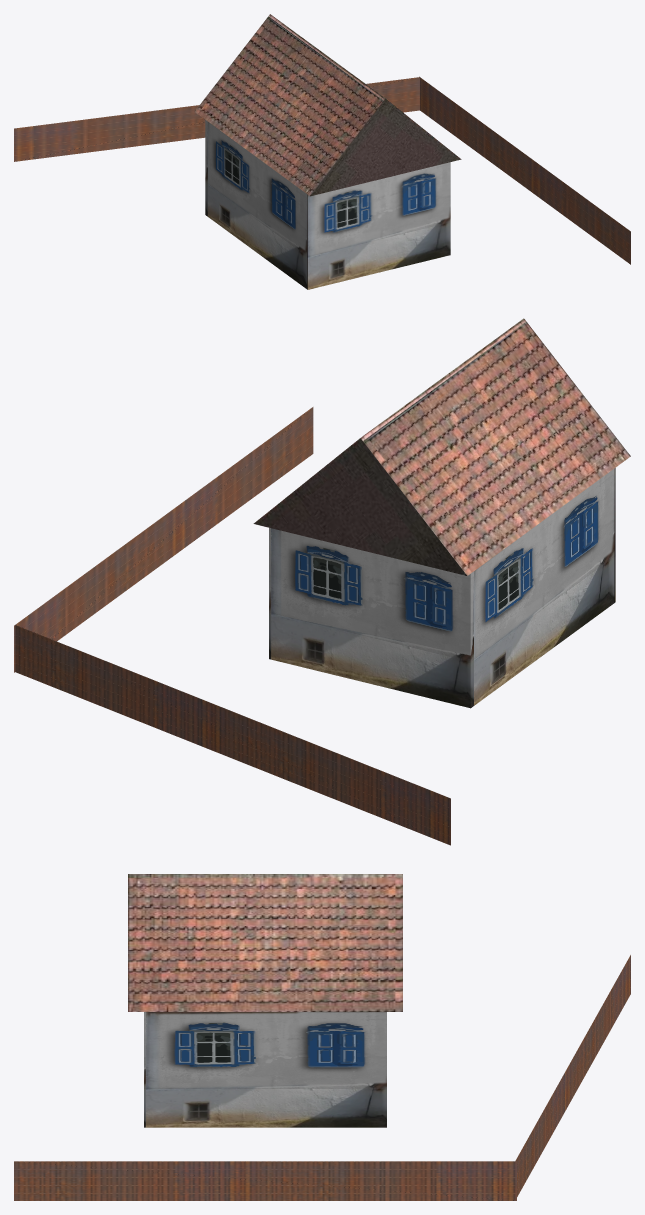
The model's file is village1.fbx.
3 renders of one model, top to bottom at view 1: azimuth 30°, elevation 25°; view 2: azimuth 150°, elevation 25°; view 3: azimuth 270°, elevation 25°, orthographic. The views are drawn at different scales.
Visible parts, largest first — view 1: Cube.002, Cube.001, Плоскость.001; view 2: Cube.002, Cube.001, Плоскость.001; view 3: Cube.002, Cube.001, Плоскость.001.
Part boxes in pixels (x1,y1,x2,y2): Cube.002: (194, 14, 461, 196); Cube.001: (205, 120, 450, 289); Плоскость.001: (14, 76, 630, 264); Cube.002: (253, 318, 630, 575); Cube.001: (269, 468, 615, 708); Плоскость.001: (14, 407, 450, 845); Cube.002: (128, 874, 402, 1011); Cube.001: (144, 1012, 386, 1127); Плоскость.001: (14, 955, 630, 1200).
Size of the model in its own units: 2239 by 1073 by 2821.
4 materials, 4 textured.
